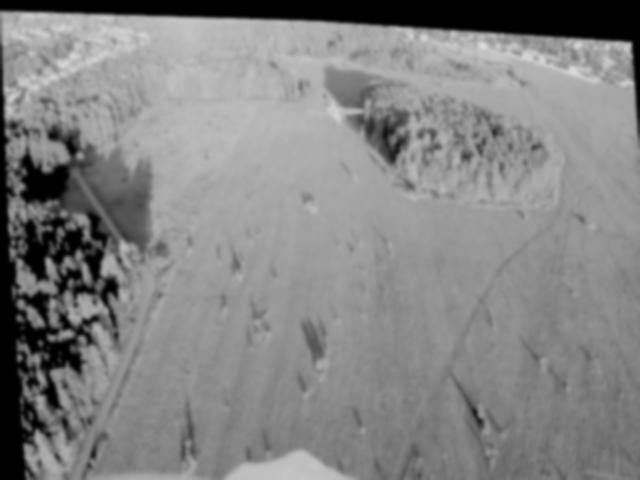hedef: (306, 90, 366, 128)
